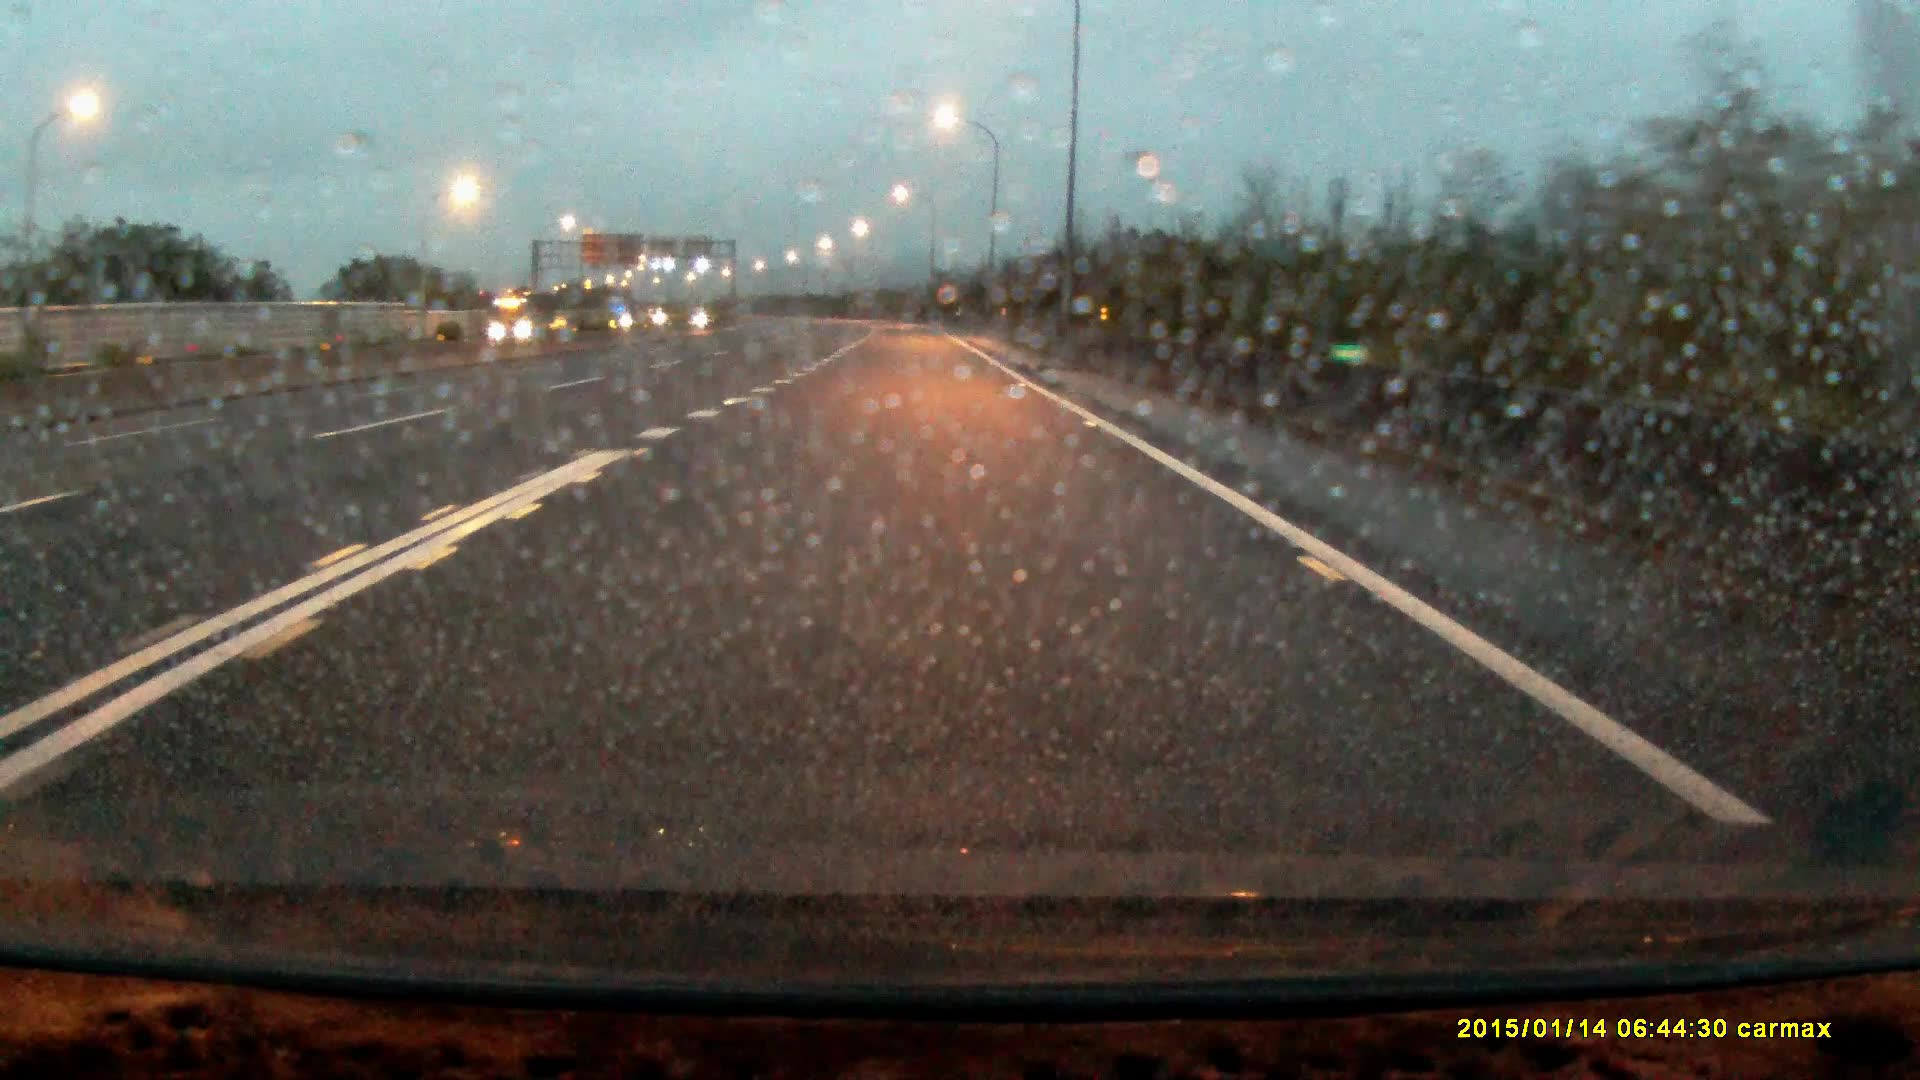vehicle: (491, 298, 560, 343)
